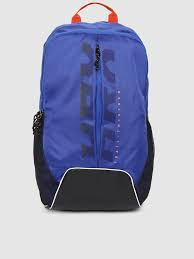backpack: (31, 1, 154, 211)
